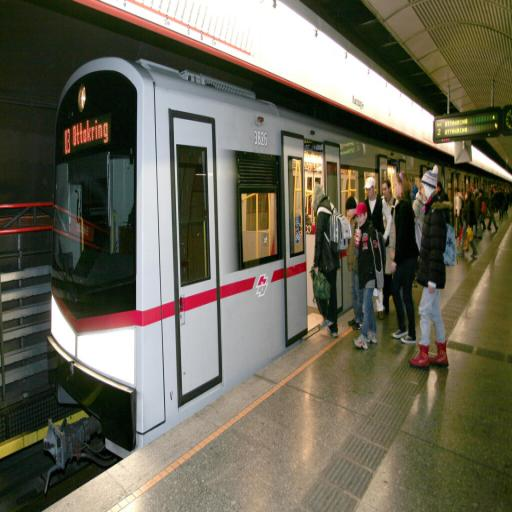V-Wagen: (50, 53, 362, 430)
